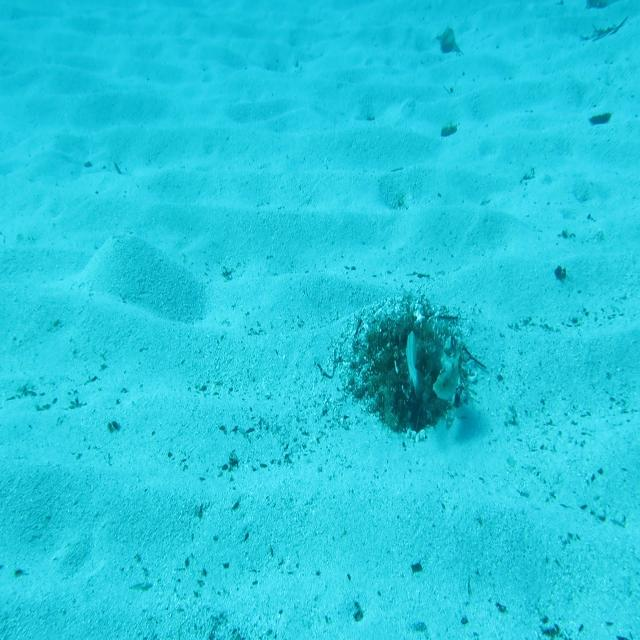DAN_CIRC: (431, 338, 462, 404)
female: (402, 328, 426, 401)
nest: (350, 291, 480, 443)
